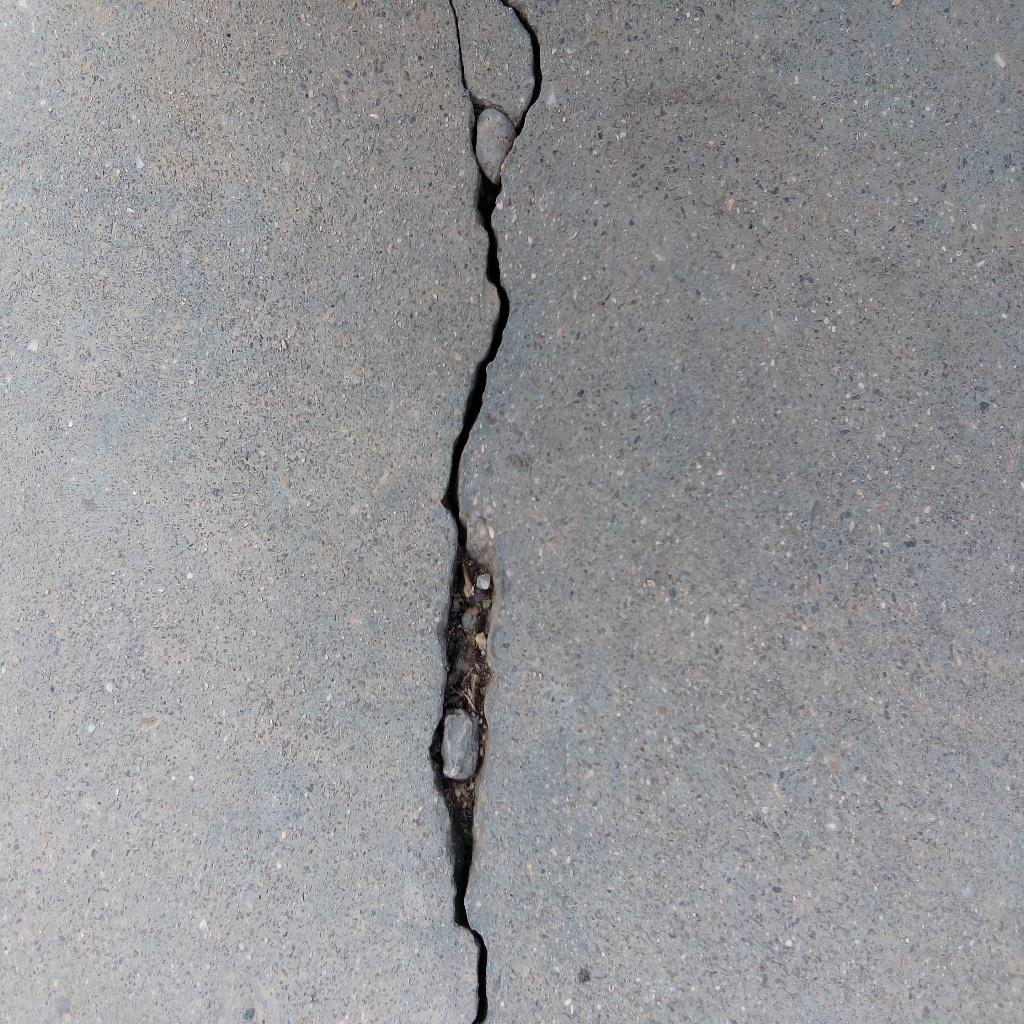Crack: (425, 1, 546, 1024)
